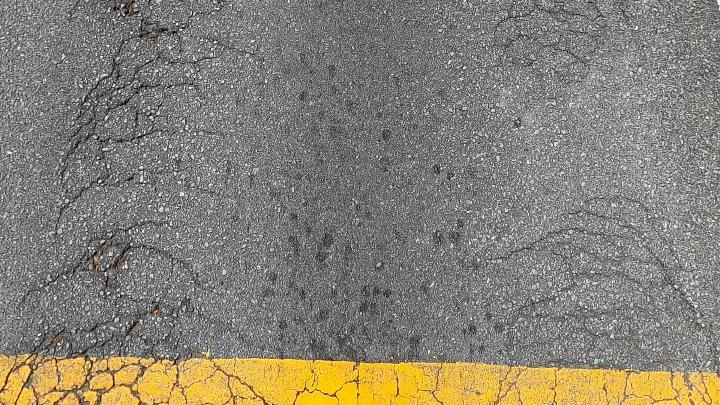Crack: (17, 0, 222, 320), (496, 187, 720, 349), (499, 228, 717, 332), (56, 25, 193, 184), (23, 210, 220, 308), (487, 0, 600, 101), (488, 0, 603, 98), (60, 136, 197, 214), (518, 287, 691, 339), (563, 189, 667, 258), (107, 0, 175, 75)
Lane: (0, 354, 719, 404), (4, 358, 720, 405)
